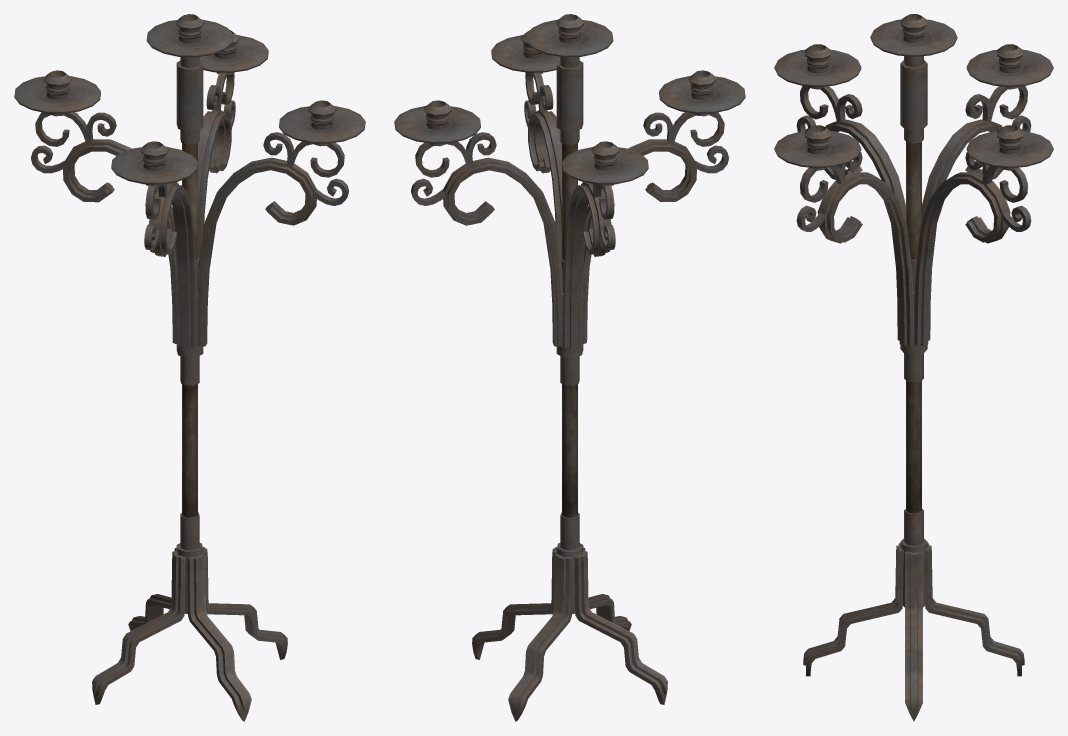
Rendered from chandelier02.fbx.
The picture shows the model from 3 angles, left to right: view 1: azimuth 30°, elevation 25°; view 2: azimuth 150°, elevation 25°; view 3: azimuth 270°, elevation 25°; orthographic projection.
Parts seen in each view (by area): view 1: chandelier02; view 2: chandelier02; view 3: chandelier02.
Part boxes in pixels (left/top/right/bottom): chandelier02: left=14, top=14, right=365, bottom=721; chandelier02: left=394, top=14, right=745, bottom=721; chandelier02: left=774, top=14, right=1053, bottom=721.
Bounding box in the file's own units: 64.12 × 167 × 64.14.
